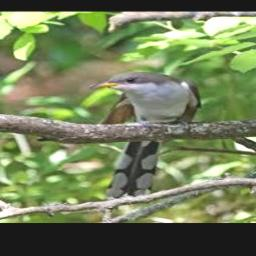Cuckoo: (89, 70, 200, 197)
